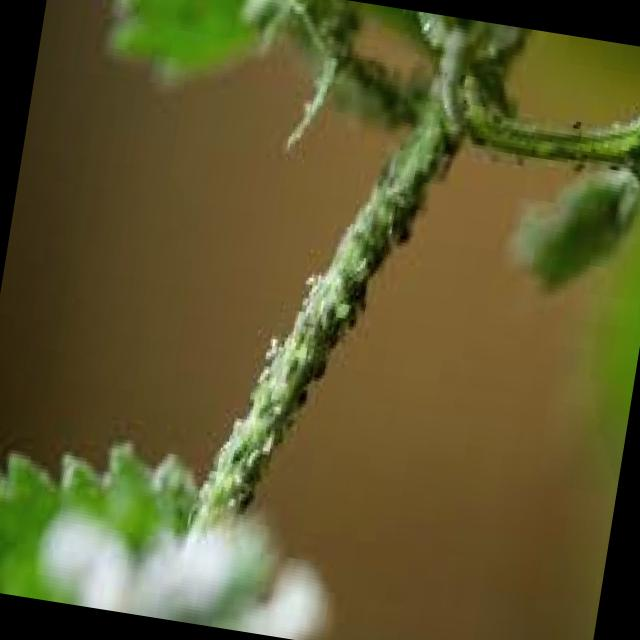aphid: (226, 471, 258, 520), (289, 346, 319, 395), (282, 299, 312, 348), (223, 428, 254, 467), (278, 344, 302, 386), (328, 288, 353, 326), (250, 354, 275, 384)
